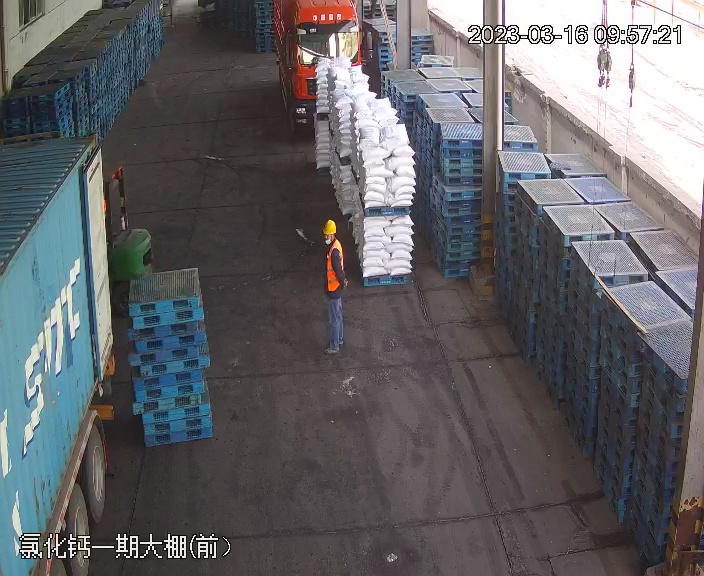head: (319, 219, 342, 261)
helmet: (322, 219, 336, 235)
people: (316, 219, 349, 356)
truck: (2, 127, 138, 576), (265, 1, 368, 122)
